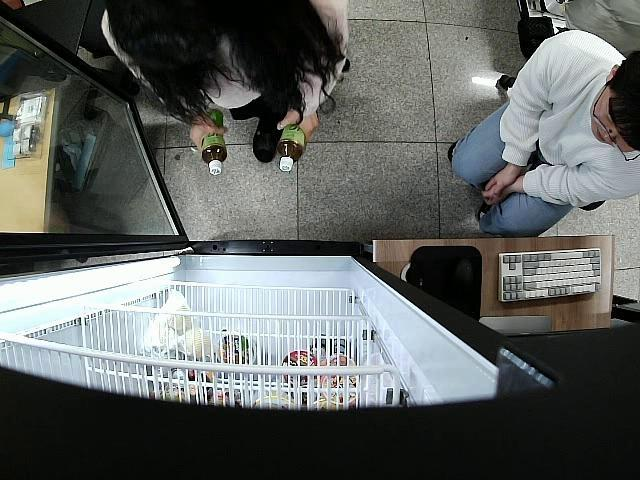19_17cha: (202, 107, 230, 175), (276, 122, 304, 172)
